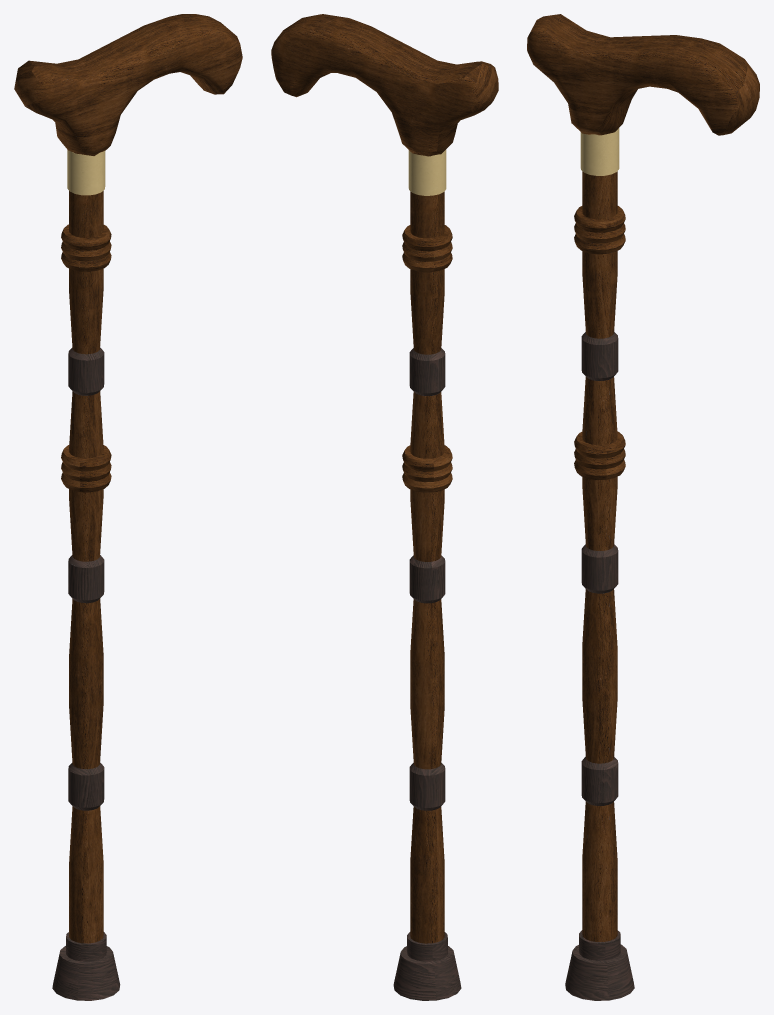
File: WalkStick.fbx
3 renders of one model, left to right at view 1: azimuth 30°, elevation 25°; view 2: azimuth 150°, elevation 25°; view 3: azimuth 330°, elevation 25°, orthographic. The views are drawn at different scales.
Visible parts, largest first — view 1: Cylinder.004; view 2: Cylinder.004; view 3: Cylinder.004.
Part boxes in pixels (x1,y1,x2,y2): Cylinder.004: (14,14,242,1000); Cylinder.004: (271,14,498,1000); Cylinder.004: (527,14,759,1000).
Size of the model in its own units: 21.42 by 89.88 by 5.91.
